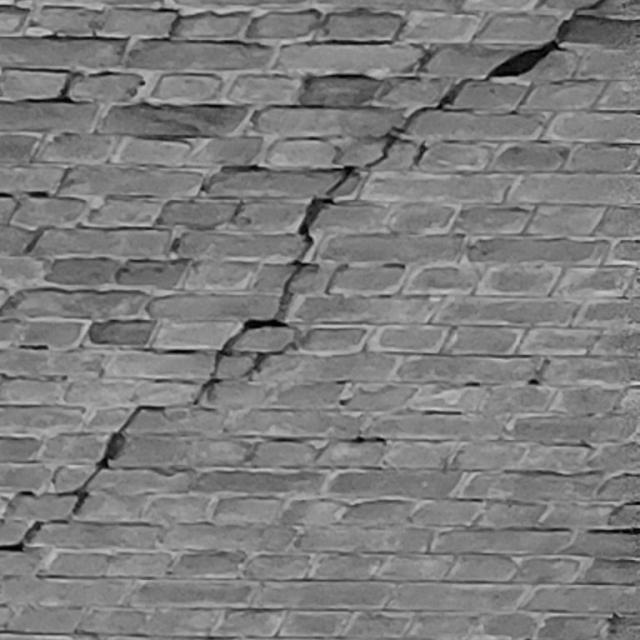crack: (1, 1, 602, 553)
